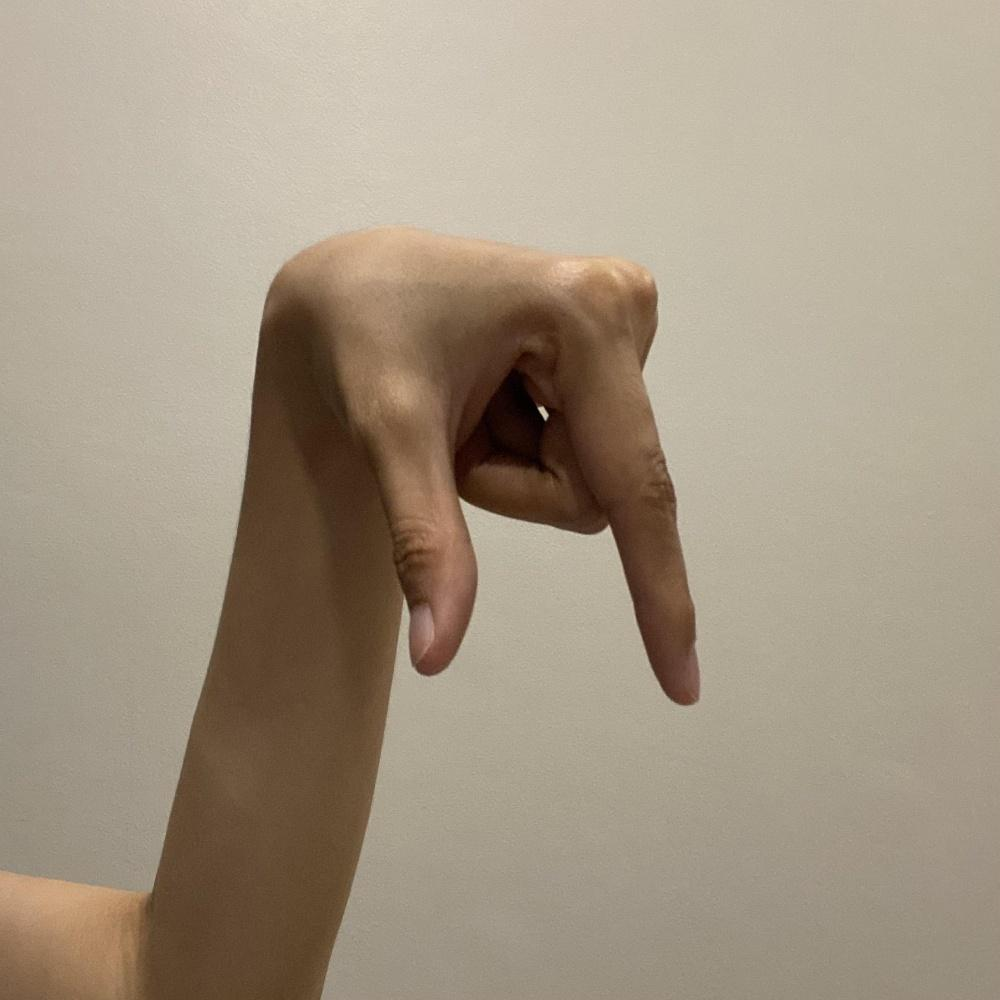q: (330, 220, 707, 713)
